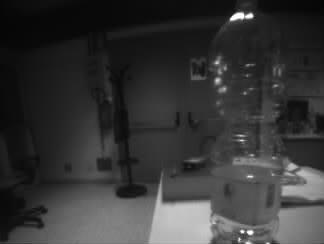Bottle: (212, 13, 281, 244)
